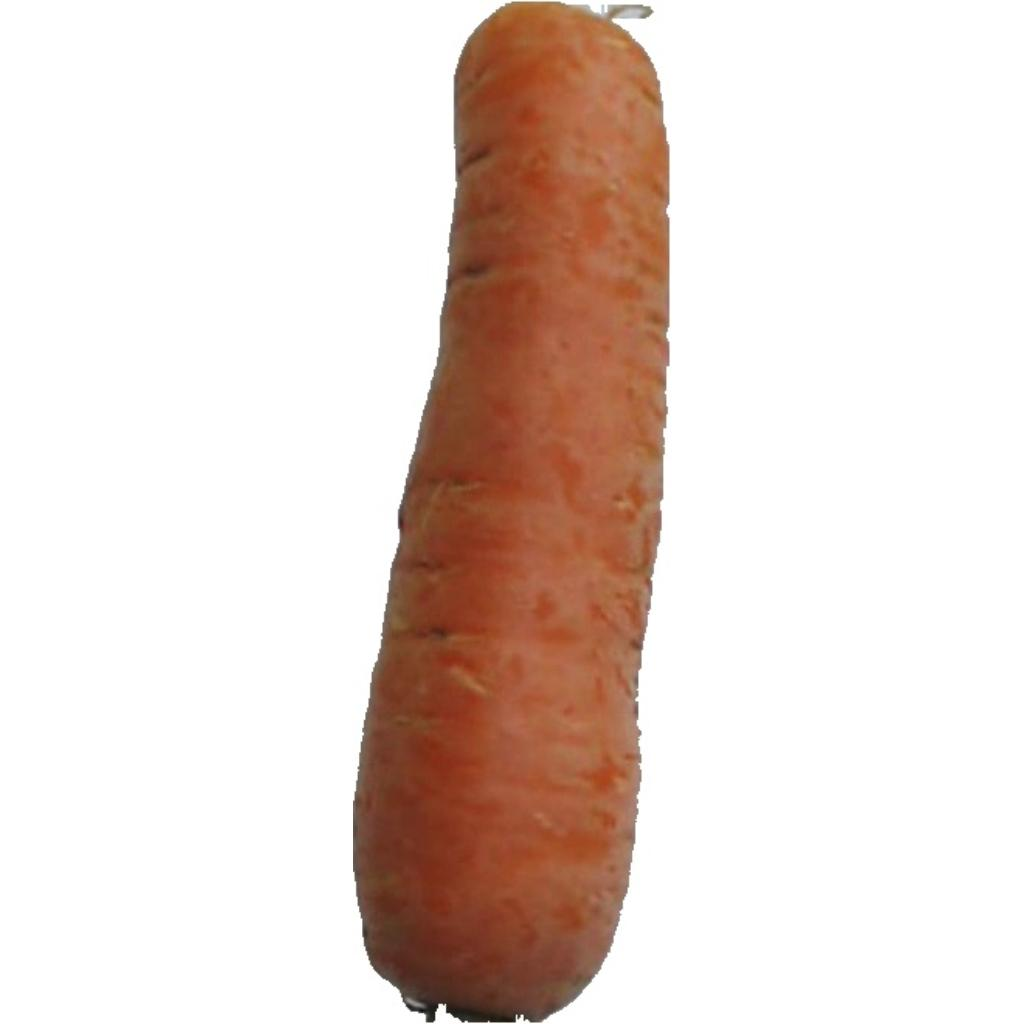carrot: (357, 4, 667, 1020)
